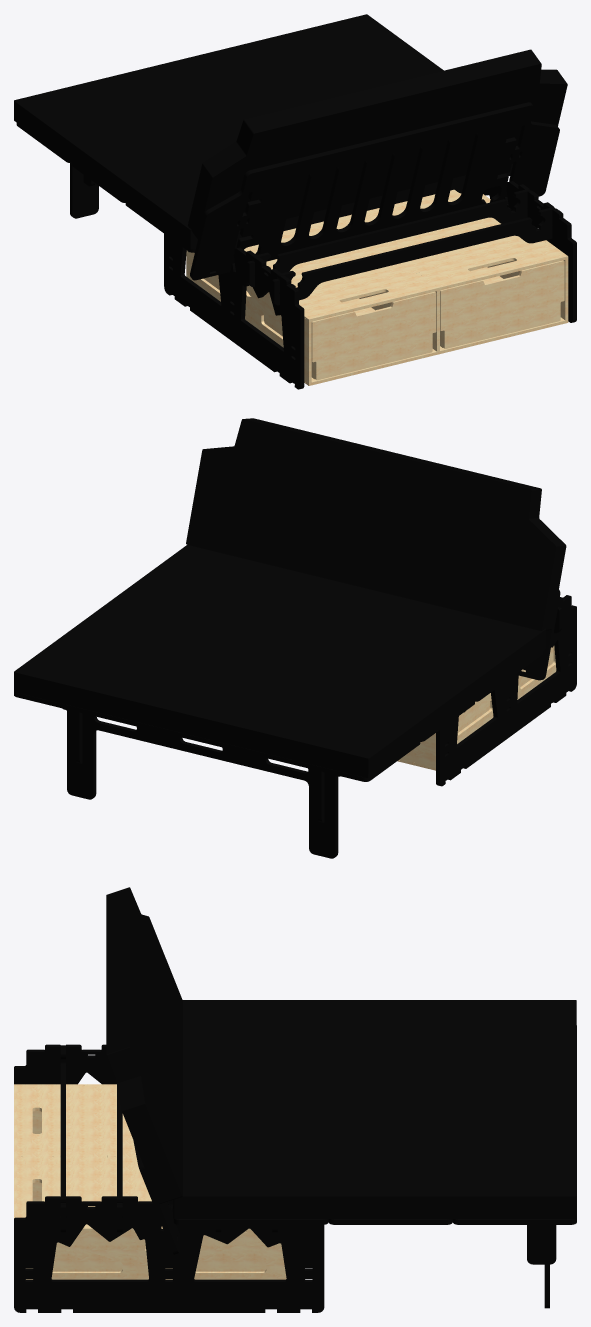
The model's file is Cuillin_expedition_detente.glb.
3 renders of one model, top to bottom at view 1: azimuth 30°, elevation 25°; view 2: azimuth 150°, elevation 25°; view 3: azimuth 270°, elevation 25°, orthographic. The views are drawn at different scales.
Size of the model in its own units: 1.51 by 0.9563 by 1.81.
Materials: 2 (1 with a texture image).
